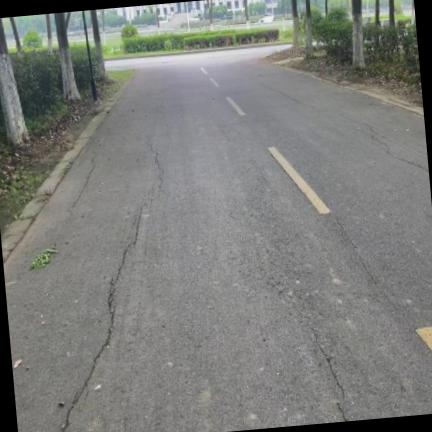Road: (4, 51, 431, 431)
